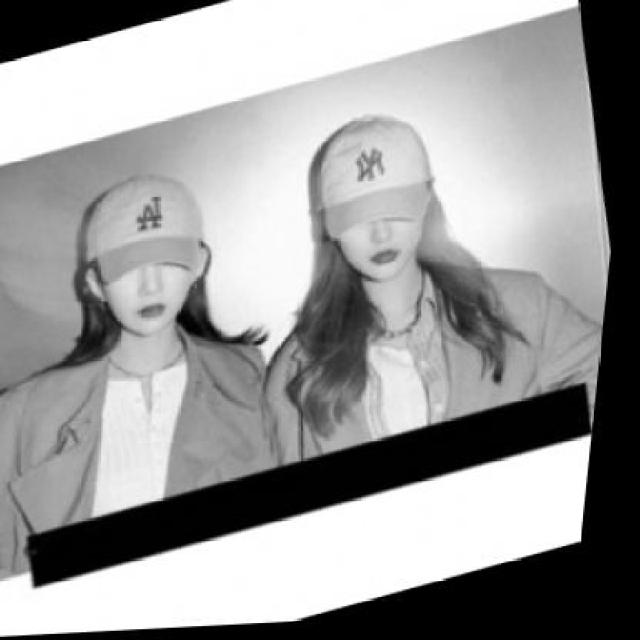hat: (295, 95, 460, 253), (67, 161, 231, 305)
